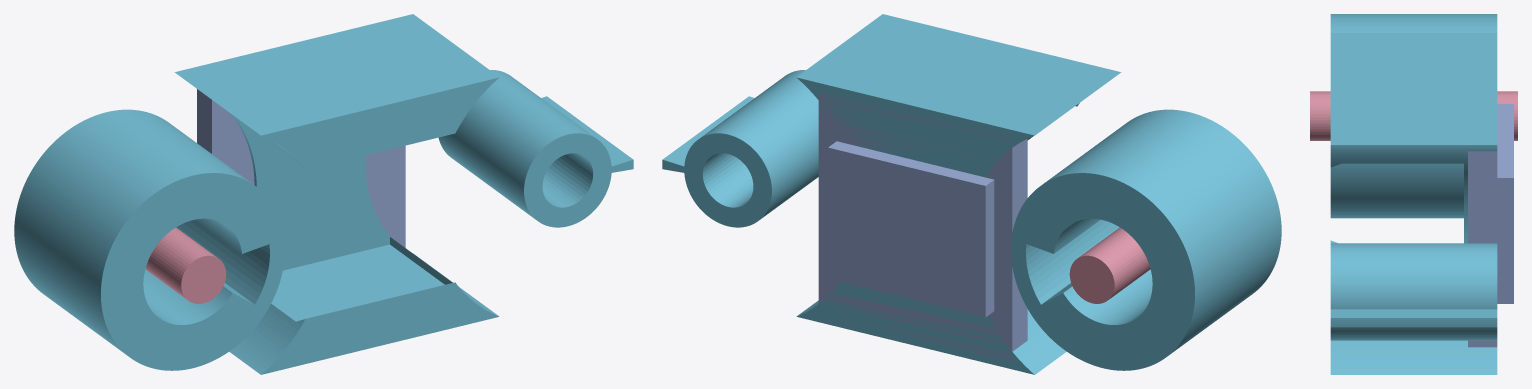
The model's file is drag_chain_link_demo.glb.
3 renders of one model, left to right at view 1: azimuth 30°, elevation 25°; view 2: azimuth 150°, elevation 25°; view 3: azimuth 270°, elevation 25°, orthographic. The views are drawn at different scales.
Parts seen in each view (by area): view 1: link, lid, pin; view 2: link, lid, pin; view 3: link, lid, pin.
Boxes of the visible parts, x1,y1,x2,y2 form: link: [14, 14, 633, 374]; lid: [197, 89, 405, 247]; pin: [145, 227, 226, 303]; link: [662, 14, 1281, 374]; lid: [818, 91, 1027, 361]; pin: [1069, 227, 1150, 303]; link: [1330, 14, 1497, 374]; lid: [1468, 104, 1513, 347]; pin: [1310, 91, 1517, 140].
Bounding box in the file's own units: 28.42 × 12.2 × 10.
